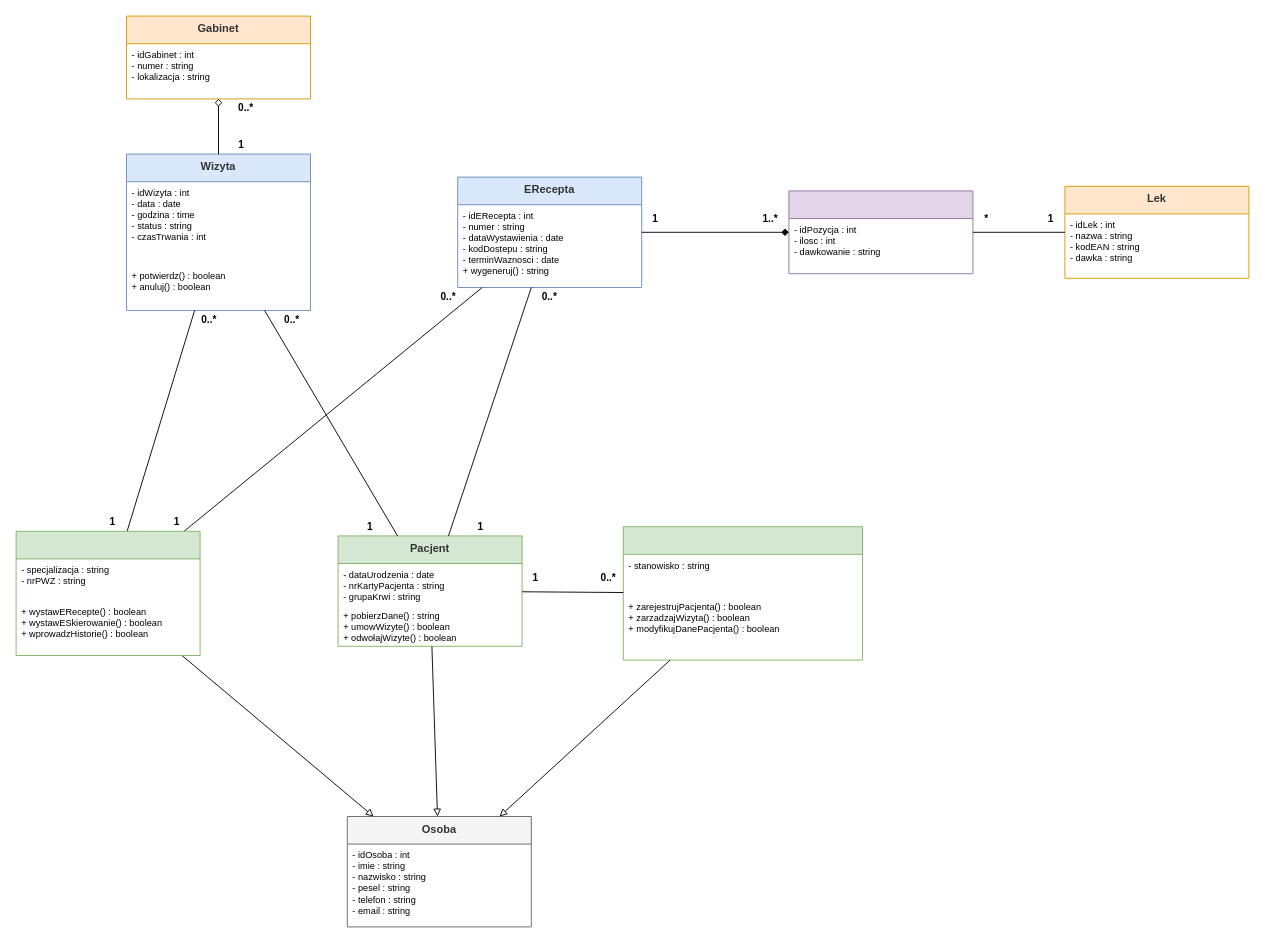
The diagram is 1265 pixels wide and 946 high, and some of its shapes have lost their labels. Each missing label, with the box of its shape:
Lekarz: (15, 530, 200, 656)
PozycjaRecepty: (788, 190, 973, 274)
Recepcjonista: (622, 526, 862, 660)
